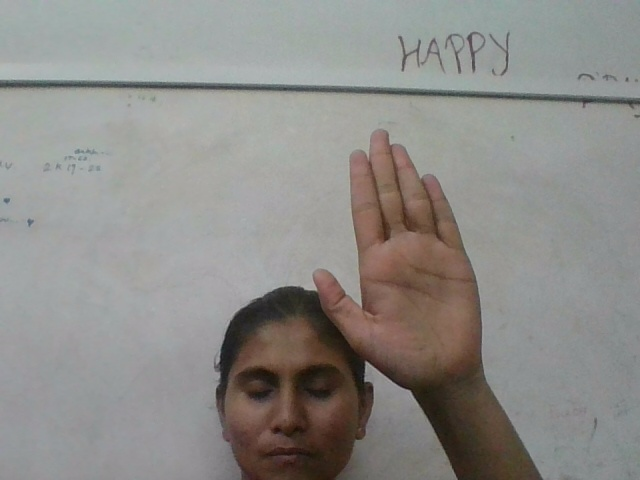Hello: (321, 132, 484, 382)
